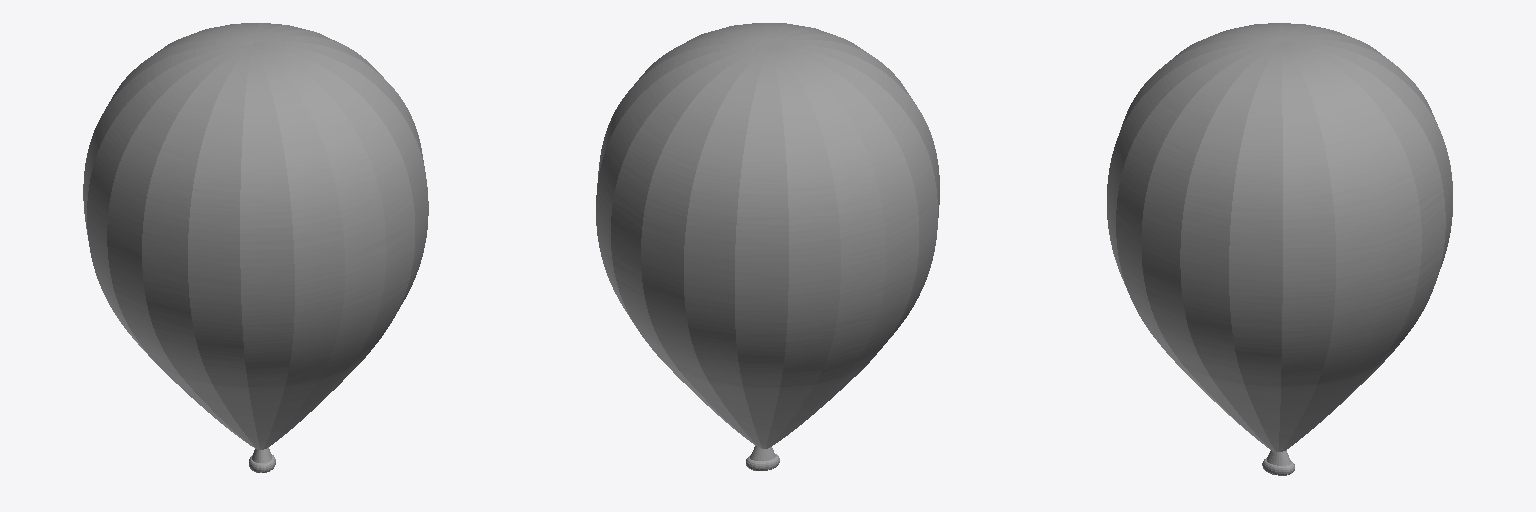
File: balloon2.obj
3 views of the same model, side by side, from view 1: azimuth 30°, elevation 25°; view 2: azimuth 150°, elevation 25°; view 3: azimuth 270°, elevation 25° (orthographic).
Visible parts, largest first — view 1: Balloon_group_[number redacted]; view 2: Balloon_group_[number redacted]; view 3: Balloon_group_[number redacted].
Part boxes in pixels (left/top/right/bottom): Balloon_group_[number redacted]: left=83, top=23, right=428, bottom=472; Balloon_group_[number redacted]: left=596, top=23, right=939, bottom=470; Balloon_group_[number redacted]: left=1107, top=23, right=1452, bottom=475.
Bounding box in the file's own units: 17.1 × 23.12 × 17.1.